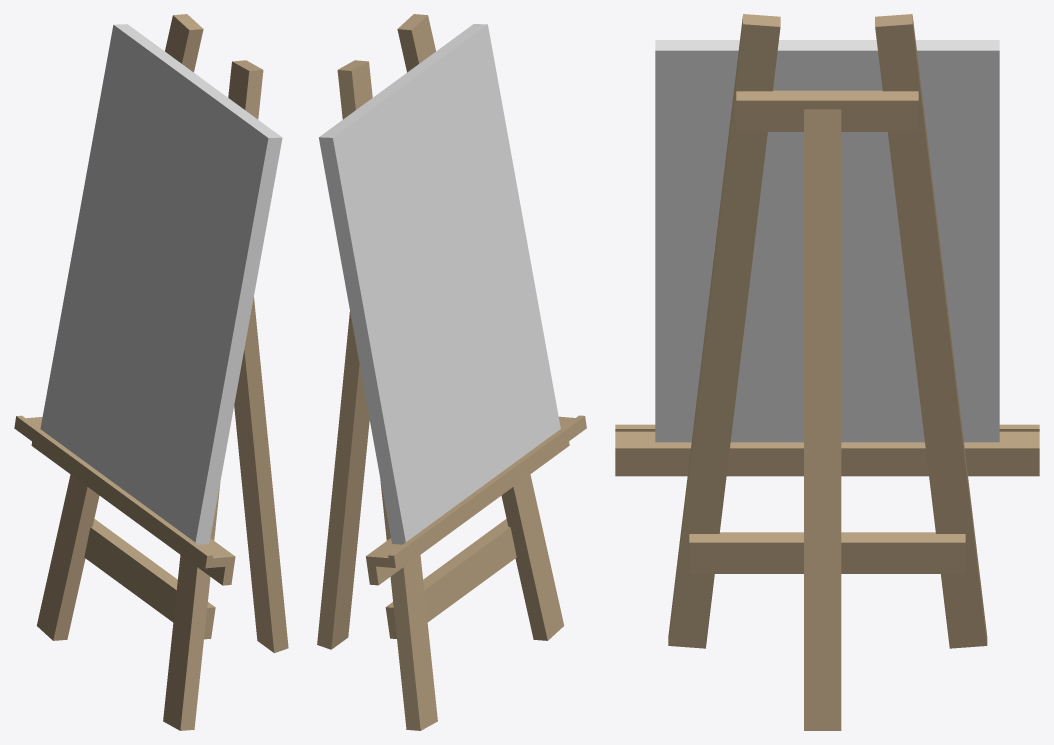
File: Easel.fbx
3 views of the same model, side by side, from view 1: azimuth 30°, elevation 25°; view 2: azimuth 150°, elevation 25°; view 3: azimuth 270°, elevation 25° (orthographic). The views are drawn at different scales.
Visible parts, largest first — view 1: Cube, Cube.006, Cube.001, Cube.002, Cube.004, Cube.003; view 2: Cube, Cube.006, Cube.002, Cube.001, Cube.004, Cube.003; view 3: Cube, Cube.006, Cube.002, Cube.001, Cube.004, Cube.003, Cube.005.
Boxes of the visible parts, x1,y1,x2,y2 form: Cube: (40, 24, 282, 544); Cube.006: (234, 297, 288, 653); Cube.001: (163, 60, 263, 730); Cube.002: (36, 14, 203, 640); Cube.004: (14, 415, 235, 585); Cube.003: (84, 519, 215, 639); Cube: (318, 24, 560, 544); Cube.006: (317, 312, 369, 649); Cube.002: (337, 60, 437, 730); Cube.001: (397, 14, 564, 640); Cube.004: (366, 415, 586, 585); Cube.003: (385, 519, 516, 638); Cube: (655, 40, 999, 442); Cube.006: (804, 109, 841, 730); Cube.002: (875, 14, 987, 648); Cube.001: (668, 14, 780, 648); Cube.004: (615, 424, 1039, 476); Cube.003: (689, 532, 965, 573); Cube.005: (736, 90, 918, 131).
Size of the model in its own units: 57.27 by 198 by 112.
